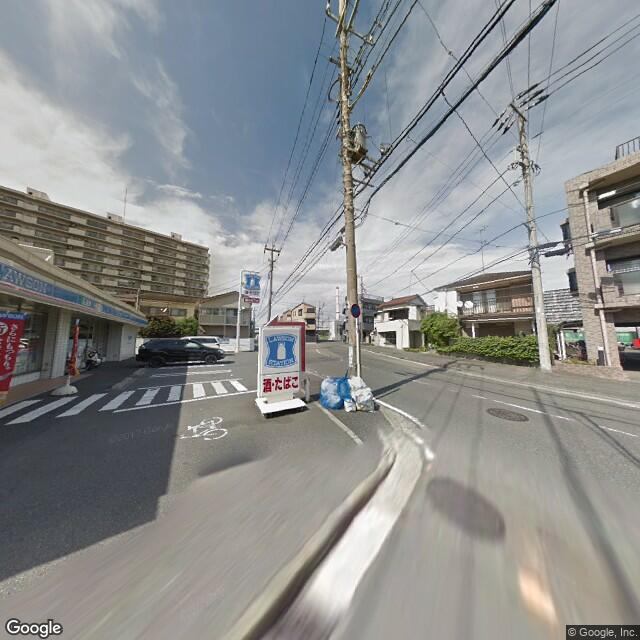lawson: (2, 259, 146, 327), (258, 325, 306, 373), (241, 267, 262, 293)
